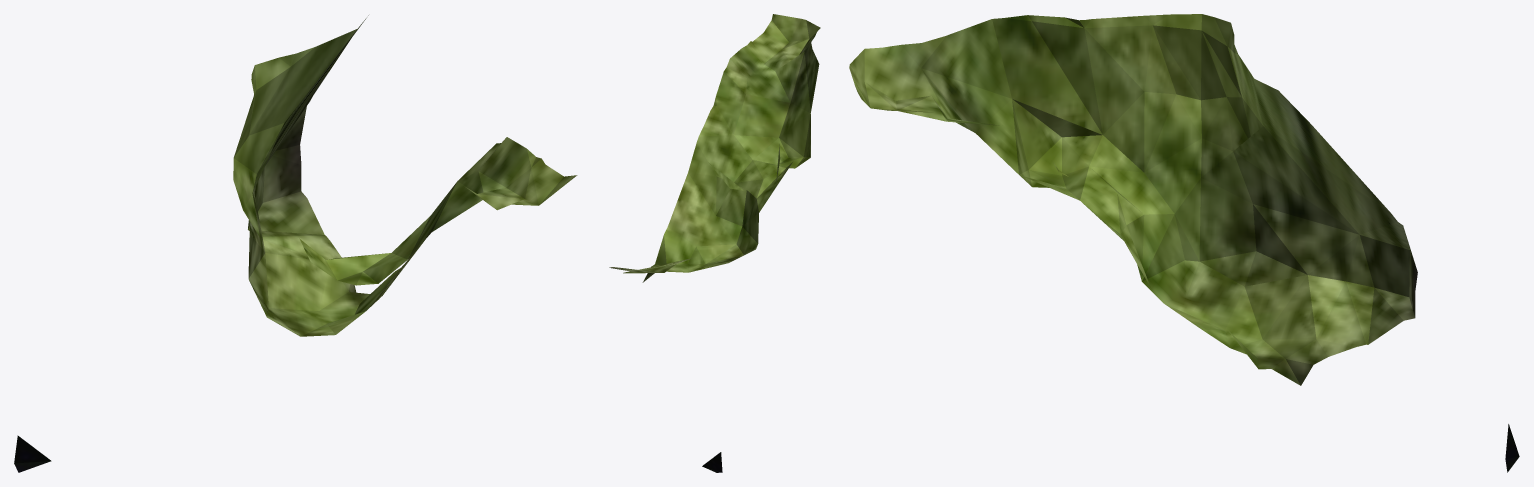
3 renders of one model, left to right at view 1: azimuth 30°, elevation 25°; view 2: azimuth 150°, elevation 25°; view 3: azimuth 270°, elevation 25°, orthographic. The views are drawn at different scales.
Size of the model in its own units: 0.7593 by 1.48 by 1.85.
1 material, 1 textured.
